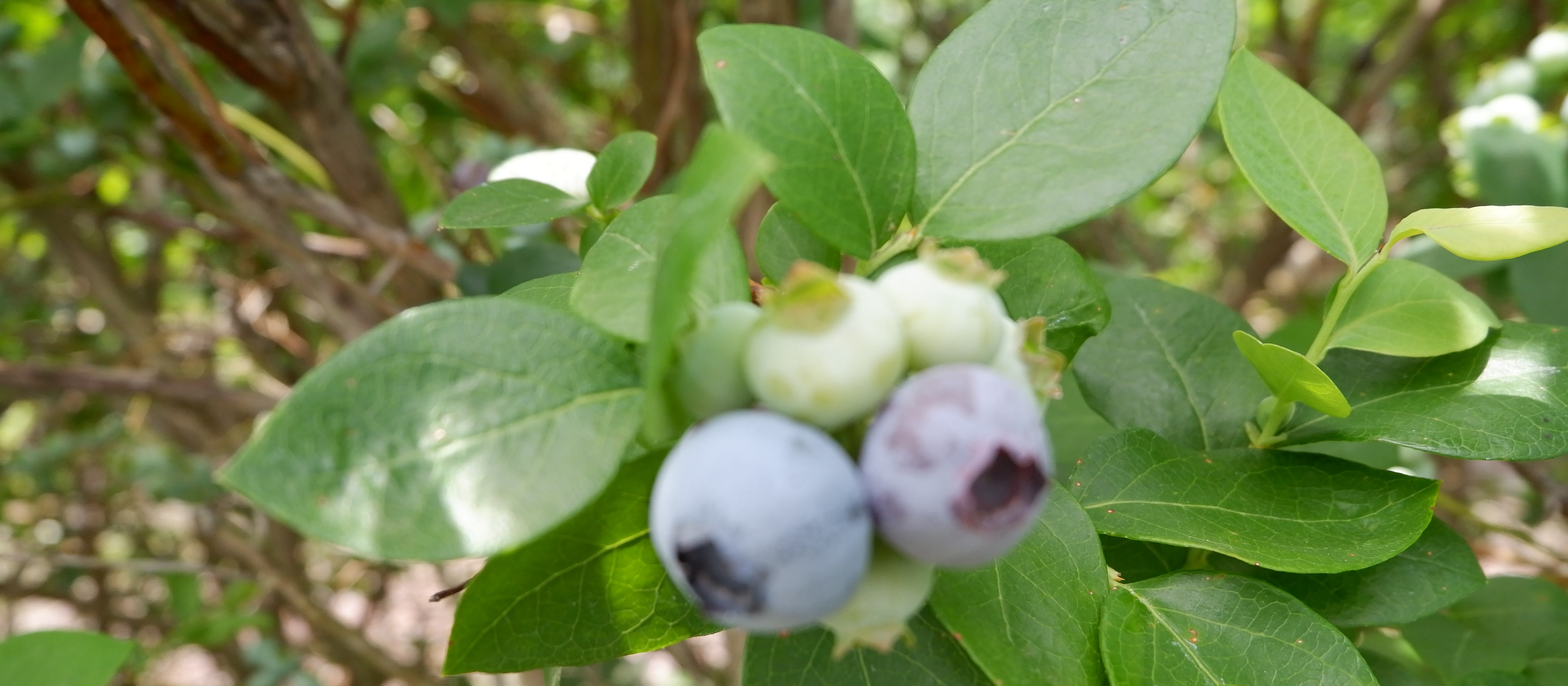Immature: (746, 272, 904, 426), (873, 255, 1006, 370), (817, 534, 934, 659), (676, 302, 760, 419), (991, 314, 1065, 411)
Mature: (651, 415, 866, 629), (862, 370, 1050, 563)
